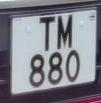0: (65, 49, 83, 86)
8: (27, 50, 47, 92), (46, 50, 65, 89)
M: (56, 12, 76, 52)
T: (36, 13, 58, 54)
